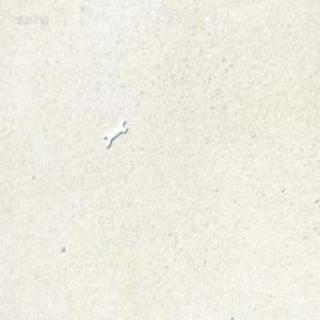Wrenchtrack_idkeyframe: (102, 117, 125, 146)
